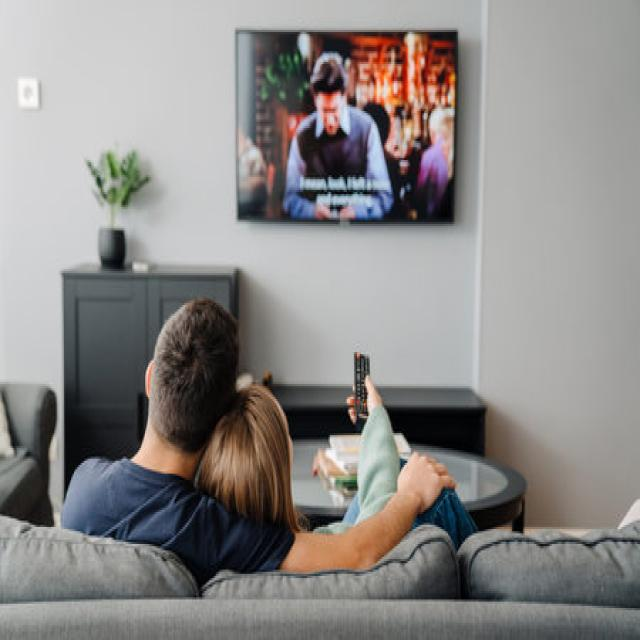tv-person: (86, 16, 492, 551), (207, 10, 496, 573)
